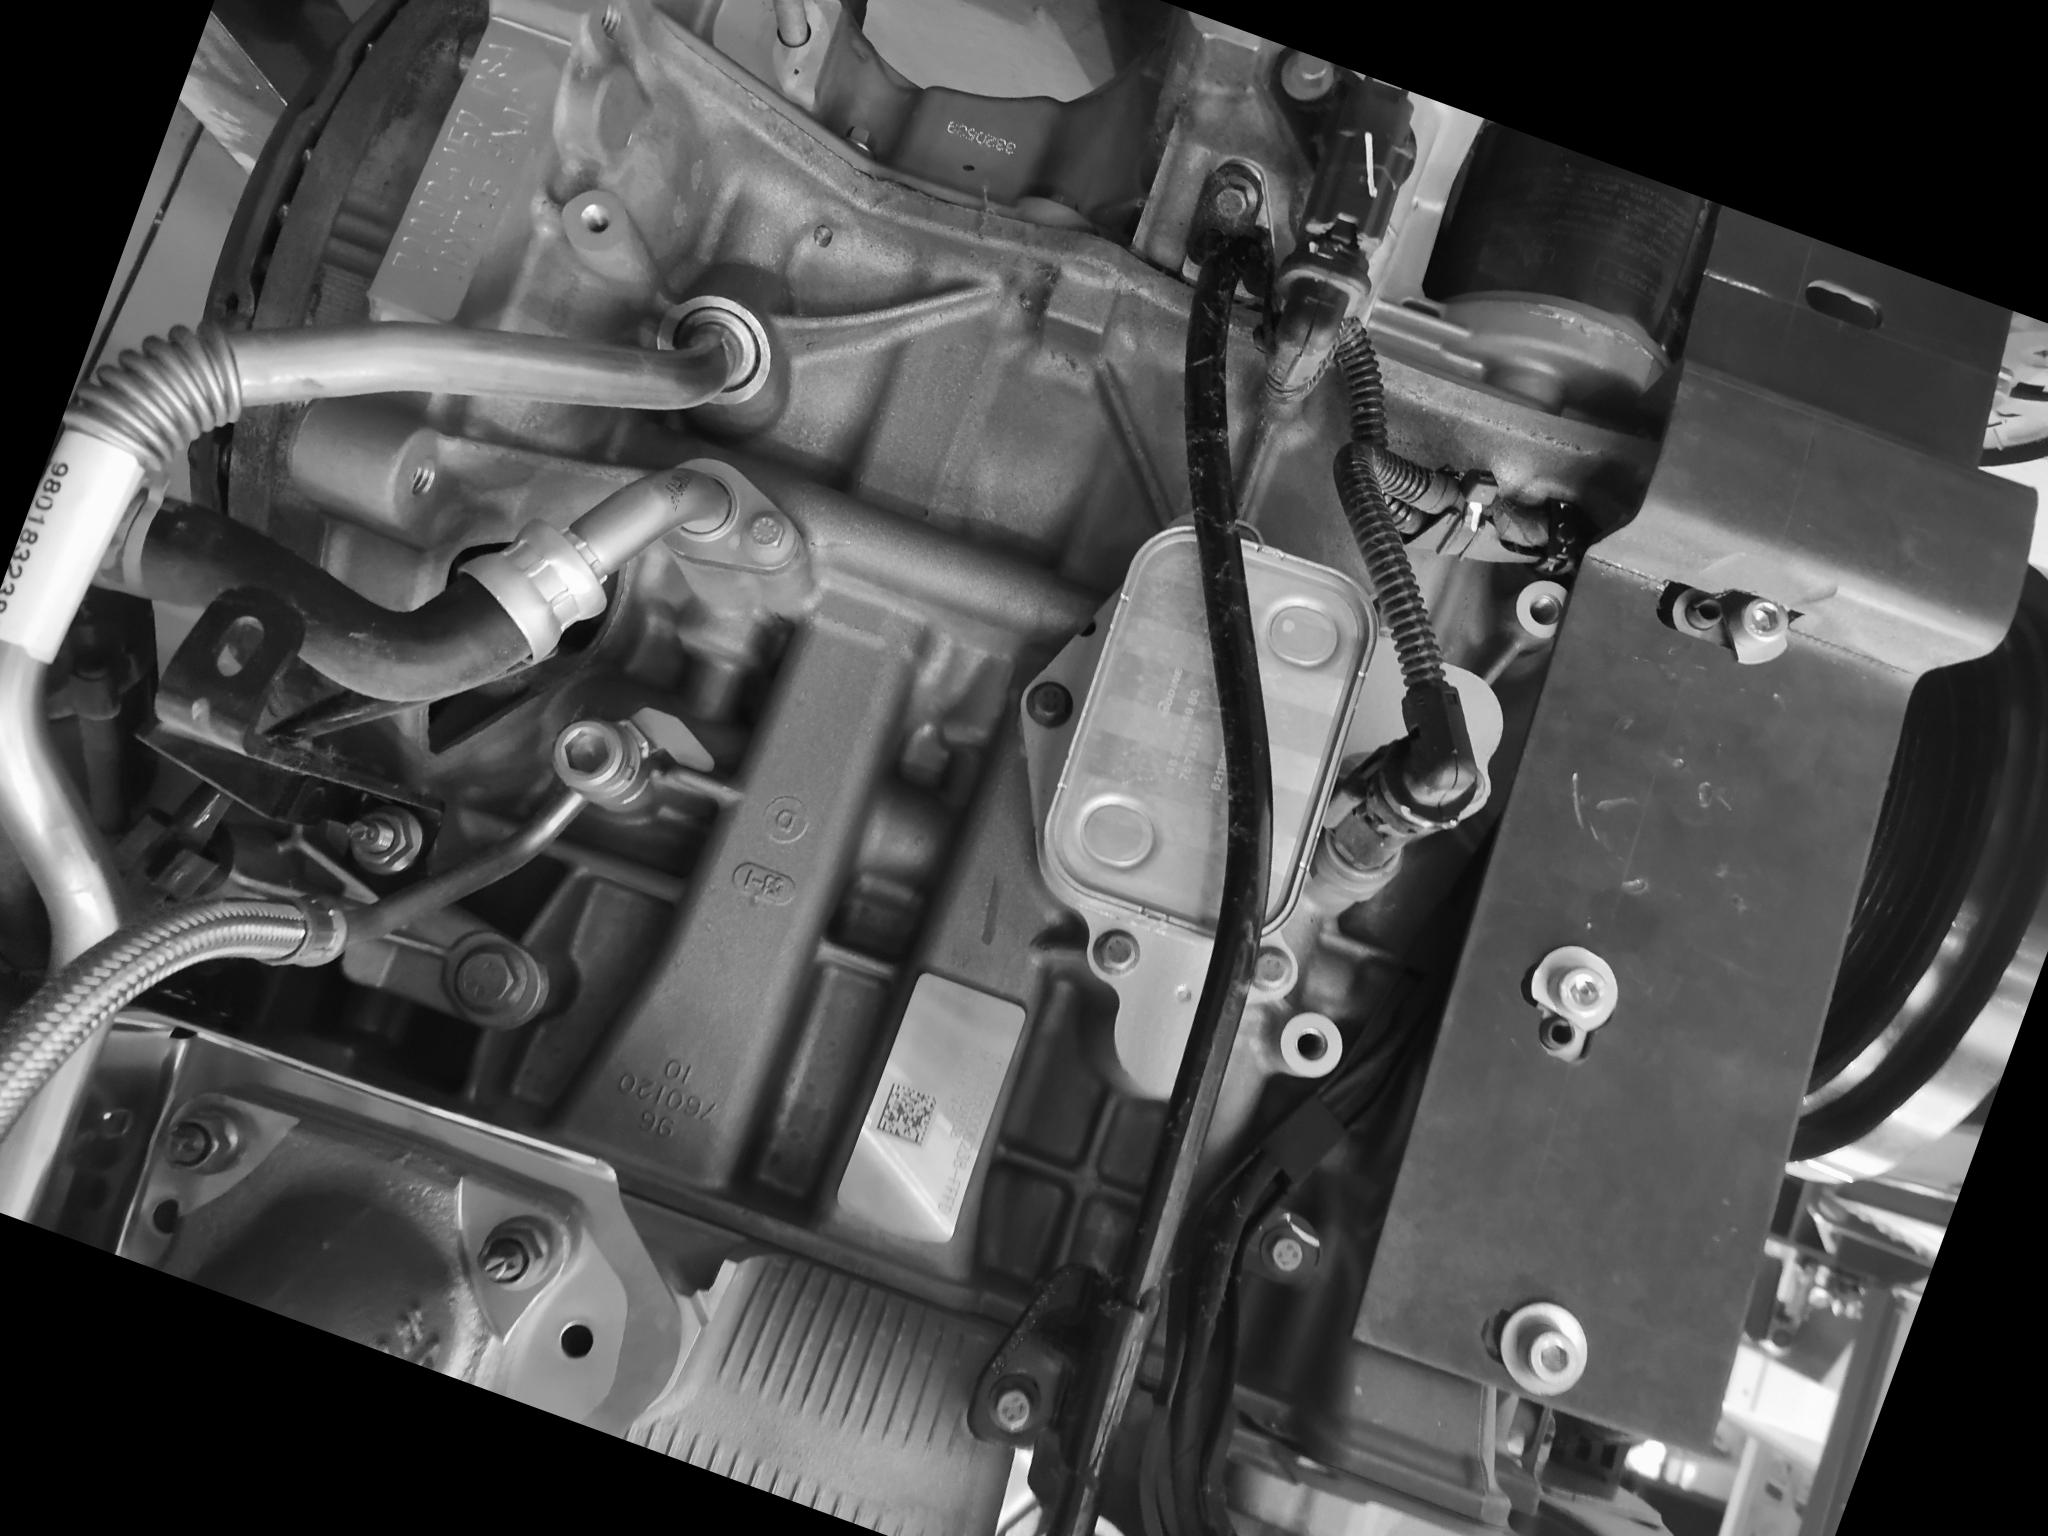screw: (1496, 1299, 1603, 1404), (537, 703, 642, 807), (434, 923, 535, 1025), (1543, 954, 1621, 1031), (1727, 584, 1801, 655), (1238, 936, 1305, 1000), (982, 1376, 1045, 1441), (1018, 673, 1080, 736), (734, 502, 793, 565), (1089, 923, 1147, 983), (1198, 171, 1256, 229), (1256, 1226, 1314, 1283)
